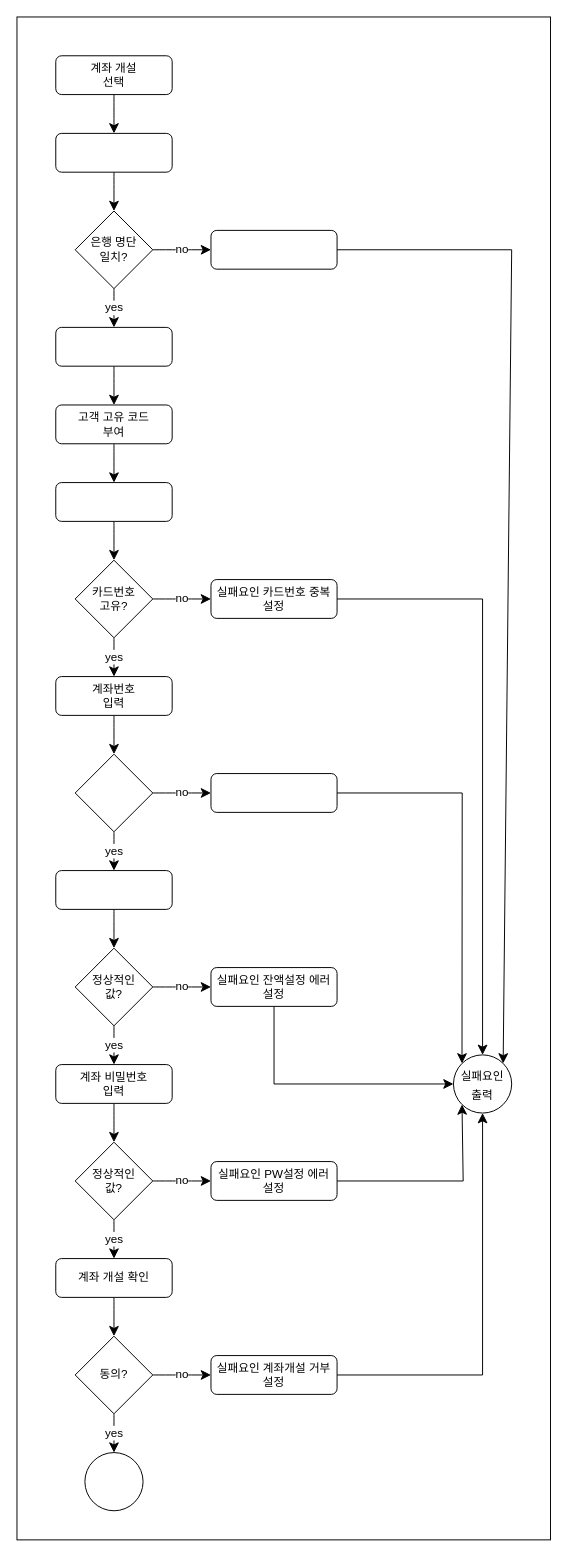
The diagram is 567 pixels wide and 1557 high, and some of its shapes have lost their labels. The shapes that lost their labels are listed below. From the top down, each one's centre as x and y in pixels, then its label:
At point (113, 152): "은행명 입력".
At point (273, 249): "실패요인 은행명 중복 설정".
At point (113, 346): "고객명 입력".
At point (113, 501): "카드번호 입력".
At point (113, 792): "계좌번호 고유?".
At point (273, 792): "실패요인 계좌번호 중복 설정".
At point (113, 889): "계좌 잔액 입력".
At point (113, 1481): "성공화면 출력".
